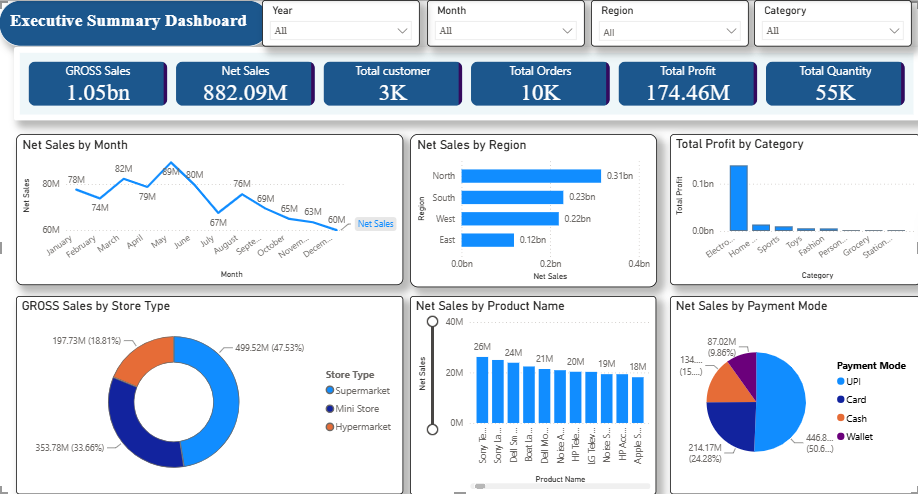

What the dashboard file says about the page in this screenshot:
{"tool":"powerbi","page":{"name":"Page 1","canvas":[1280,720],"ordinal":0},"visuals":[{"type":"group","id":"g1","title":"Group 3","box":[12.4,0,1267.6,681.3],"z":0},{"type":"textbox","box":[12.4,0,373.1,64.2],"z":0,"group":"g1"},{"type":"donutChart","fields":{"Y":["All Measures.GROSS Sales"],"Category":["Stores.Store Type"]},"box":[35.3,407.6,533.3,272.8],"z":0,"group":"g3"},{"type":"slicer","fields":{"Values":["Date Table.Date.Variation.Date Hierarchy.Month"]},"box":[602,0,217,64],"z":1000},{"type":"cardVisual","fields":{"Data":["All Measures.GROSS Sales","All Measures.Net Sales","All Measures.Total customer","All Measures.Total Orders","All Measures.Total Profit","All Measures.Total Quantity"]},"box":[33.1,64.2,1246.4,101.3],"z":1000,"group":"g1"},{"type":"columnChart","fields":{"Y":["All Measures.Net Sales"],"Category":["Products.Product Name"]},"box":[577.6,407.6,339.2,273.8],"z":1000,"group":"g3"},{"type":"slicer","fields":{"Values":["Date Table.Date.Variation.Date Hierarchy.Year"]},"box":[374,0,217,64],"z":2000},{"type":"group","id":"g2","title":"Group 1","box":[35.3,184.5,1244,211.4],"z":2000,"group":"g1"},{"type":"lineChart","fields":{"Y":["All Measures.Net Sales"],"Category":["Date Table.Date.Variation.Date Hierarchy.Month"]},"box":[35.3,184.5,532.7,207.5],"z":2000,"group":"g2"},{"type":"pieChart","fields":{"Y":["All Measures.Net Sales"],"Category":["Sales.Payment Mode"]},"box":[934.8,407.5,344.4,272.8],"z":2000,"group":"g3"},{"type":"slicer","fields":{"Values":["Customers.Region"]},"box":[827,0,217,64],"z":3000},{"type":"barChart","fields":{"Y":["All Measures.Net Sales"],"Category":["Customers.Region"]},"box":[577.3,184.5,339.9,211.4],"z":3000,"group":"g2"},{"type":"group","id":"g3","title":"Group 2","box":[35.3,407.5,1244,273.9],"z":3000,"group":"g1"},{"type":"slicer","fields":{"Values":["Products.Category"]},"box":[1051,0,217,64],"z":4000},{"type":"columnChart","fields":{"Y":["All Measures.Total Profit"],"Category":["Products.Category"]},"box":[934.8,184.9,344.4,208.5],"z":4000,"group":"g2"}]}

Visuals, with their boxes on the page's 1280x720 design canvas (x1, y1, x2, y2). These are canvas units, not pixel positions in the 918x494 screenshot, which may show the page scaled, cropped or inside an application window:
"Group 3" group: (x1=12, y1=0, x2=1280, y2=681)
textbox: (x1=12, y1=0, x2=386, y2=64)
donutChart - All Measures.GROSS Sales x Stores.Store Type: (x1=35, y1=408, x2=569, y2=680)
slicer - Date Table.Date.Variation.Date Hierarchy.Month: (x1=602, y1=0, x2=819, y2=64)
cardVisual - All Measures.GROSS Sales x All Measures.Net Sales: (x1=33, y1=64, x2=1280, y2=166)
columnChart - All Measures.Net Sales x Products.Product Name: (x1=578, y1=408, x2=917, y2=681)
slicer - Date Table.Date.Variation.Date Hierarchy.Year: (x1=374, y1=0, x2=591, y2=64)
"Group 1" group: (x1=35, y1=184, x2=1279, y2=396)
lineChart - All Measures.Net Sales x Date Table.Date.Variation.Date Hierarchy.Month: (x1=35, y1=184, x2=568, y2=392)
pieChart - All Measures.Net Sales x Sales.Payment Mode: (x1=935, y1=408, x2=1279, y2=680)
slicer - Customers.Region: (x1=827, y1=0, x2=1044, y2=64)
barChart - All Measures.Net Sales x Customers.Region: (x1=577, y1=184, x2=917, y2=396)
"Group 2" group: (x1=35, y1=408, x2=1279, y2=681)
slicer - Products.Category: (x1=1051, y1=0, x2=1268, y2=64)
columnChart - All Measures.Total Profit x Products.Category: (x1=935, y1=185, x2=1279, y2=393)
